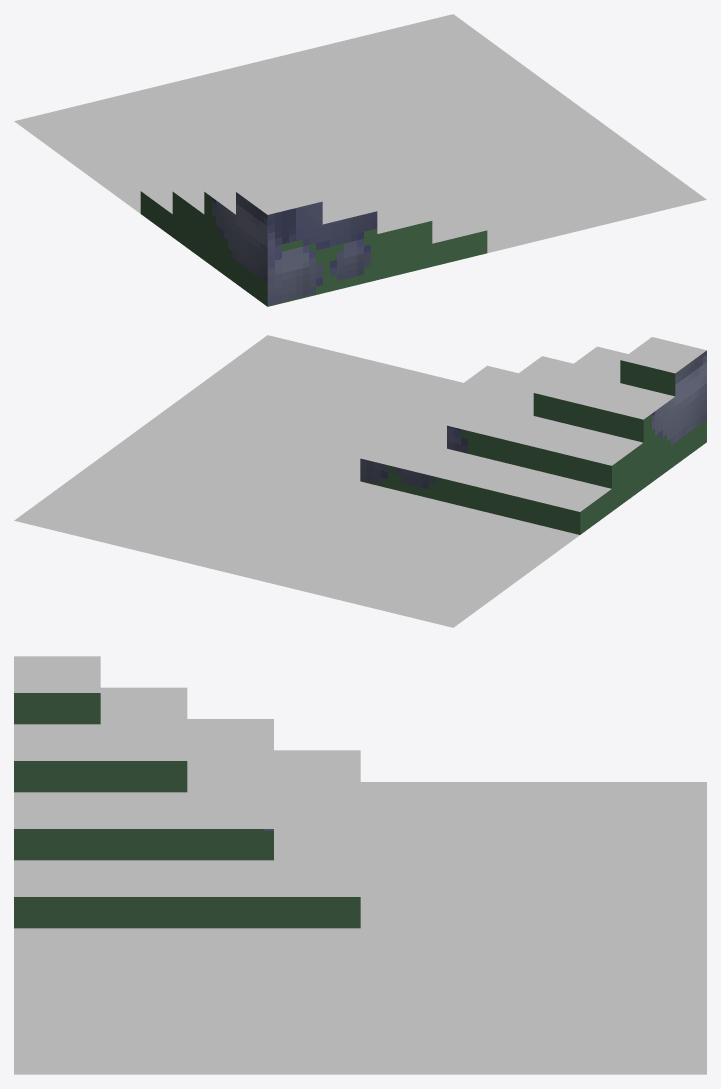
File: floor_stepsCornerOuter.dae
3 renders of one model, top to bottom at view 1: azimuth 30°, elevation 25°; view 2: azimuth 150°, elevation 25°; view 3: azimuth 270°, elevation 25°, orthographic. The views are drawn at different scales.
Visible parts, largest first — view 1: floor_stepsCornerOuter; view 2: floor_stepsCornerOuter; view 3: floor_stepsCornerOuter.
Boxes of the visible parts, x1,y1,x2,y2 form: floor_stepsCornerOuter: [14, 14, 706, 306]; floor_stepsCornerOuter: [14, 335, 706, 627]; floor_stepsCornerOuter: [14, 656, 706, 1074].
Bounding box in the file's own units: 1 × 0.2 × 1.
